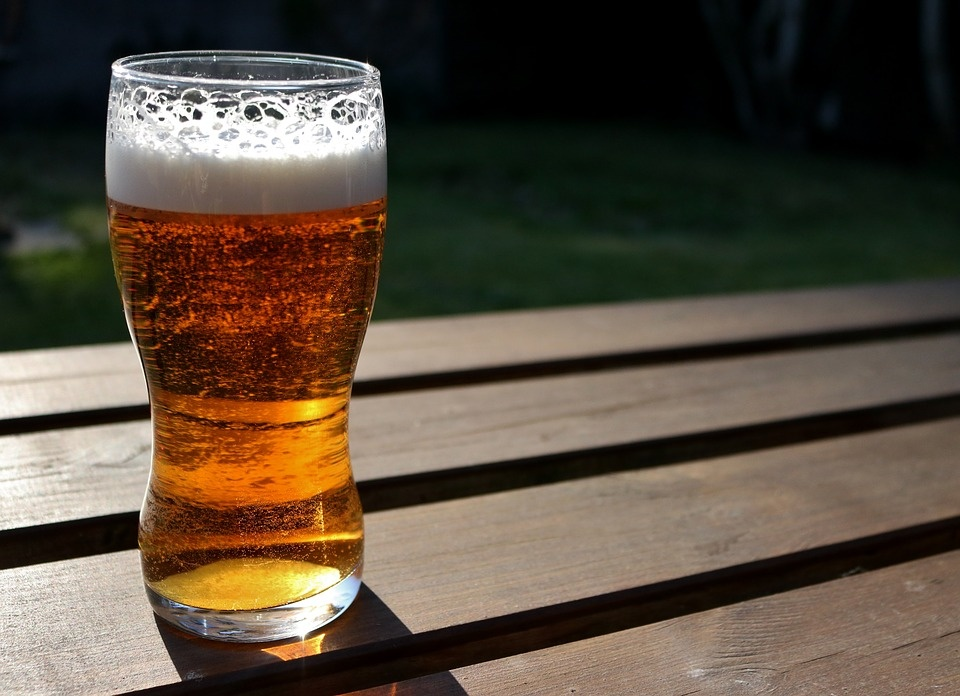glassBeer: (104, 41, 383, 414)
